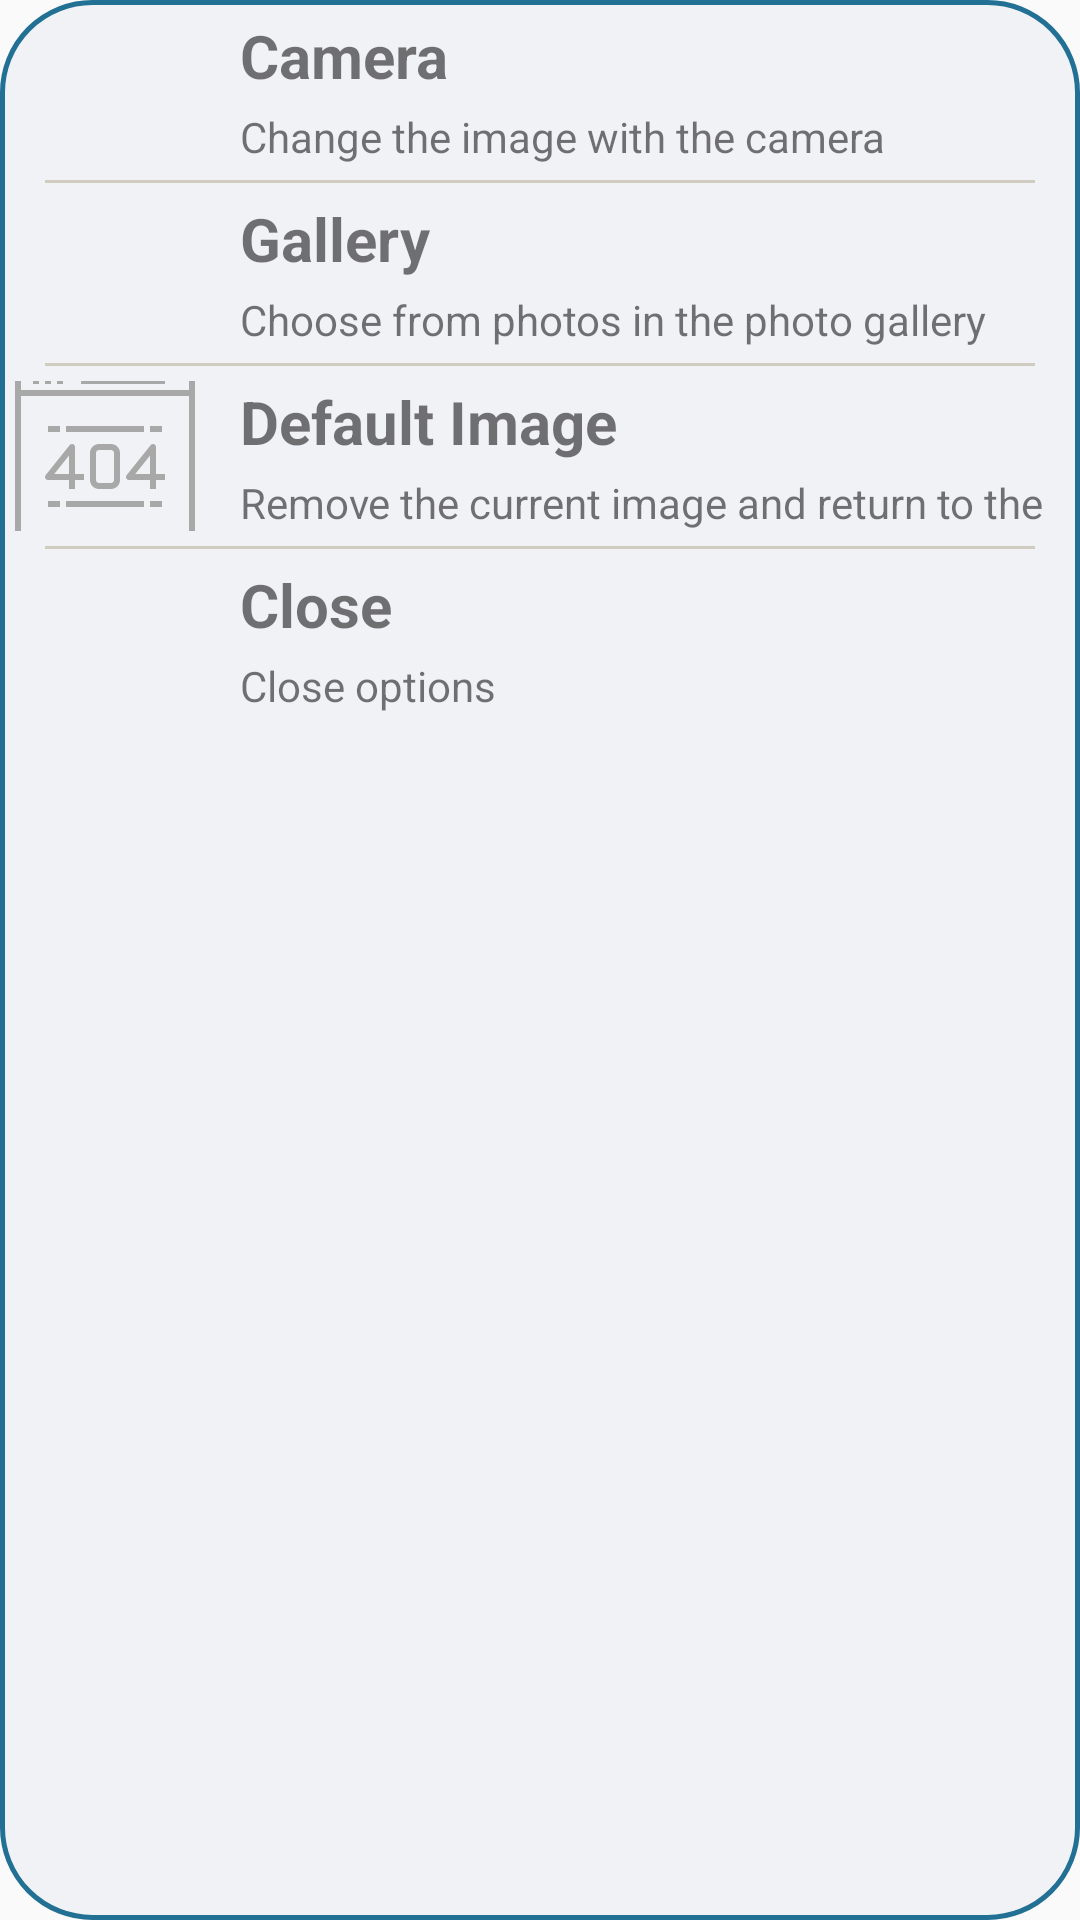

Screen size 1080 × 1920. Icon name, then its box in pixels as [x1=x1, y1=y1, x2=x2, y2=y2]:
error: [x1=15, y1=381, x2=195, y2=531]
